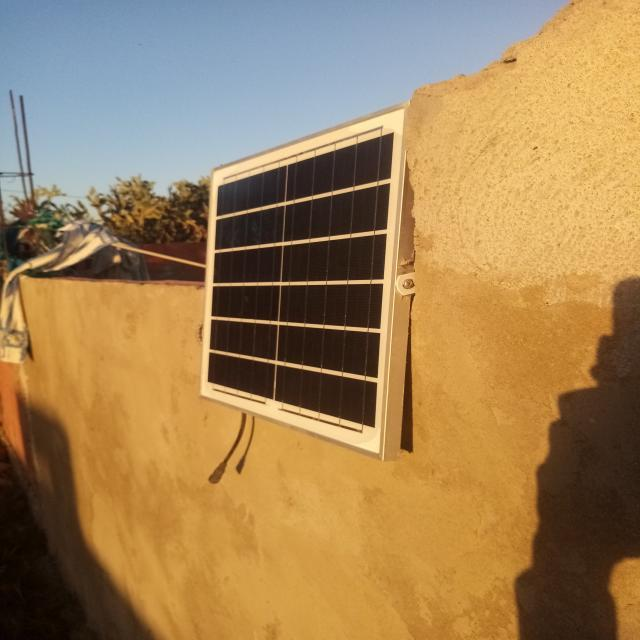no faulty: (203, 108, 406, 455)
